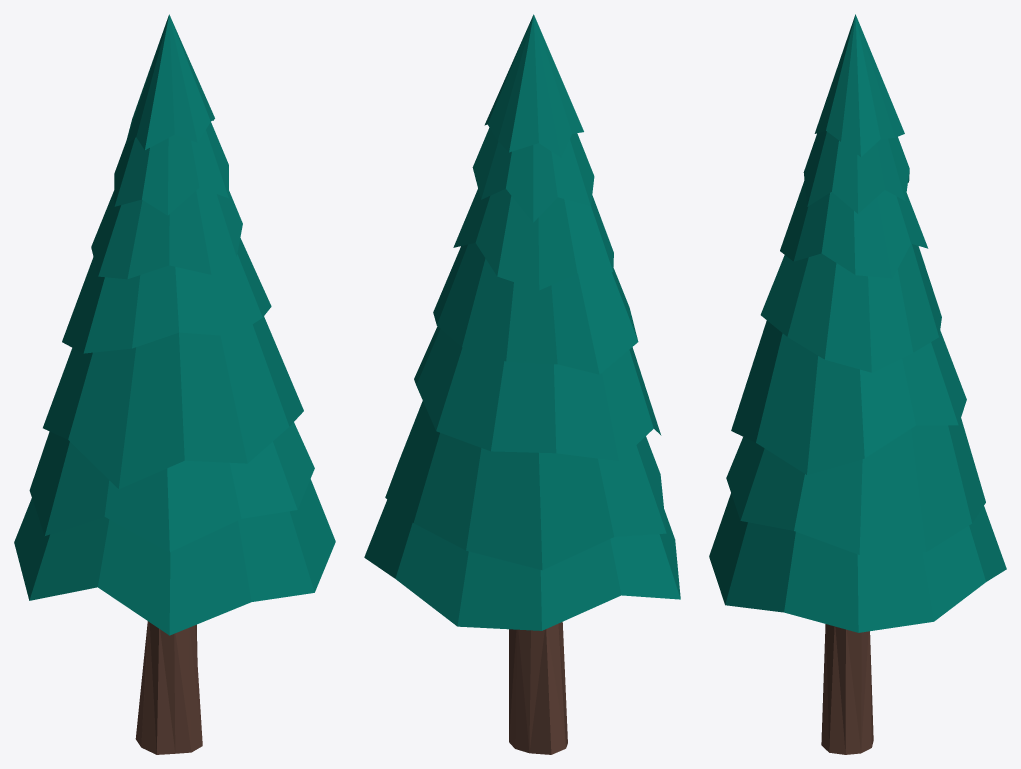
Rendered from pine.glb.
3 views of the same model, side by side, from view 1: azimuth 30°, elevation 25°; view 2: azimuth 150°, elevation 25°; view 3: azimuth 270°, elevation 25° (orthographic).
Visible parts, largest first — view 1: node_MeshObject-1892698176-PolyPaper11; view 2: node_MeshObject-1892698176-PolyPaper11; view 3: node_MeshObject-1892698176-PolyPaper11.
Part boxes in pixels (x1,y1,x2,y2): node_MeshObject-1892698176-PolyPaper11: (14,14,335,754); node_MeshObject-1892698176-PolyPaper11: (364,14,680,754); node_MeshObject-1892698176-PolyPaper11: (709,14,1006,754).
Size of the model in its own units: 0.7 by 1.66 by 0.6131.
